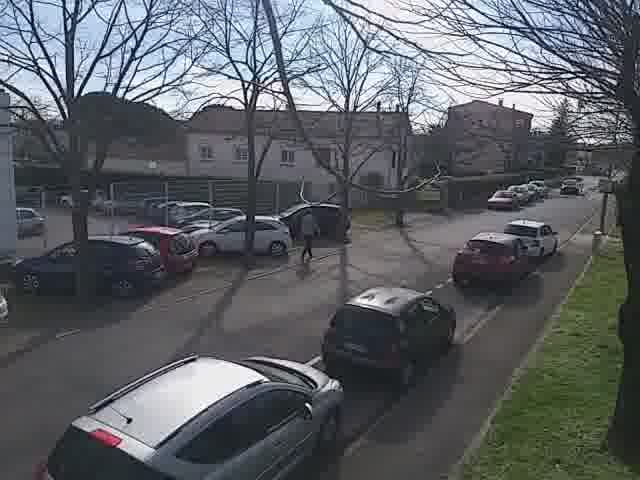persona: (294, 199, 327, 266)
